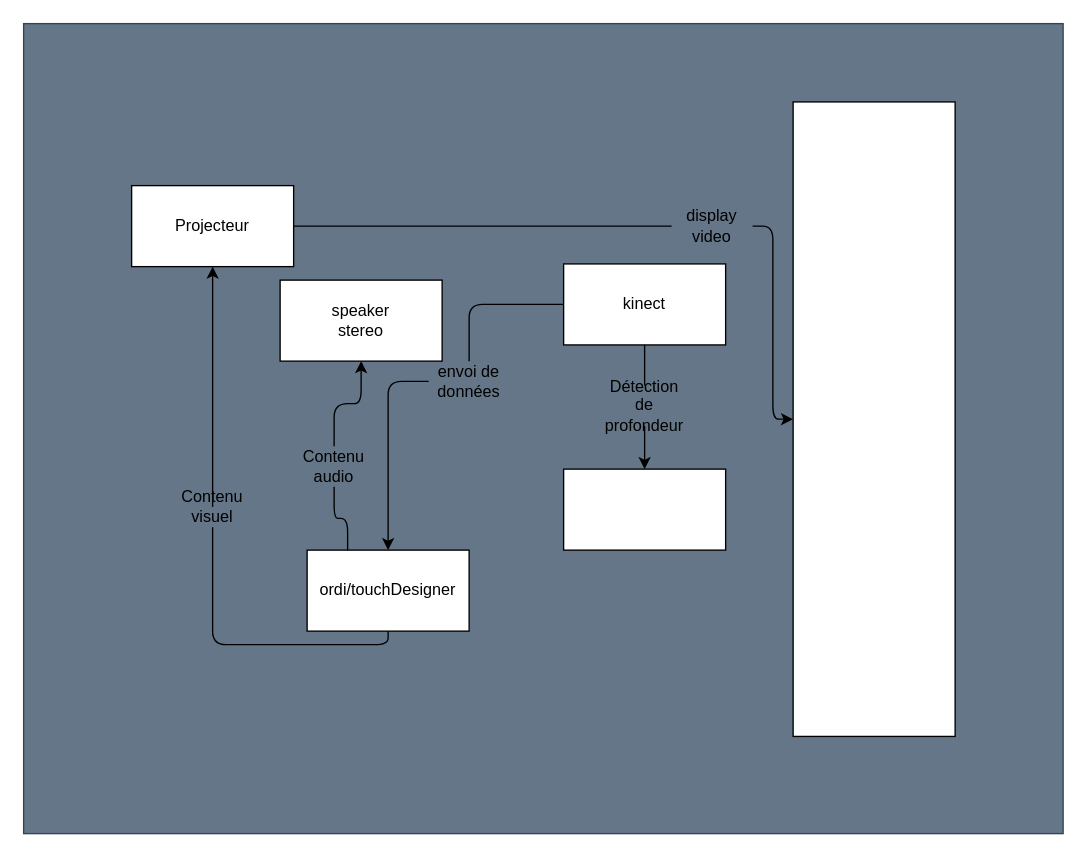
Some shapes in this 1087 by 857 pixel diagram are drawn without their labels. The shapes that lost their labels are listed below. From the top down, each one's centre as x and y in pixels, then its label:
At pixel 873 418: "Écran de projection".
At pixel 644 509: "Bac à sable".
